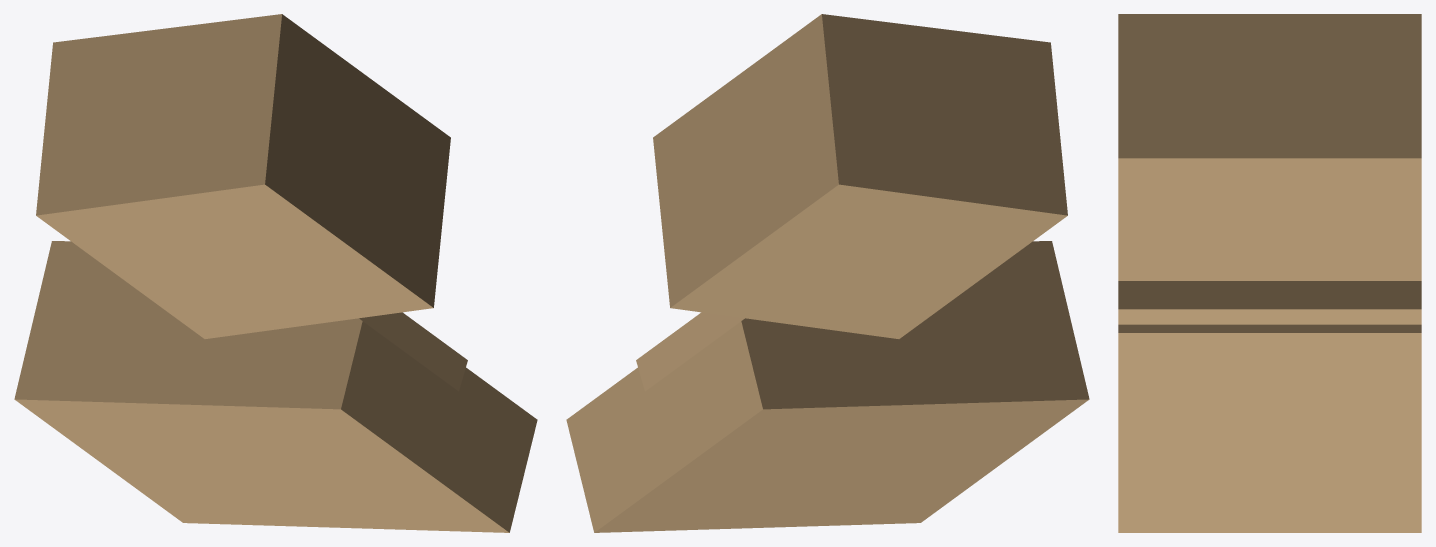
3 views of the same model, side by side, from view 1: azimuth 30°, elevation 25°; view 2: azimuth 150°, elevation 25°; view 3: azimuth 270°, elevation 25° (orthographic). The views are drawn at different scales.
Visible parts, largest first — view 1: 0_3_0_1_1_2_1_0; view 2: 0_3_0_1_1_2_1_0; view 3: 0_3_0_1_1_2_1_0.
Part boxes in pixels (bbox=[...]): 0_3_0_1_1_2_1_0: bbox=[14, 14, 537, 532]; 0_3_0_1_1_2_1_0: bbox=[566, 14, 1089, 532]; 0_3_0_1_1_2_1_0: bbox=[1118, 14, 1421, 532].
Size of the model in its own units: 25.45 by 29.99 by 21.
